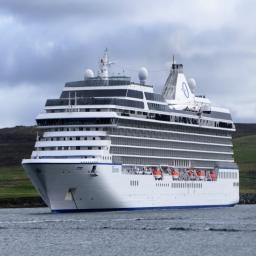cruises: (20, 44, 248, 215)
